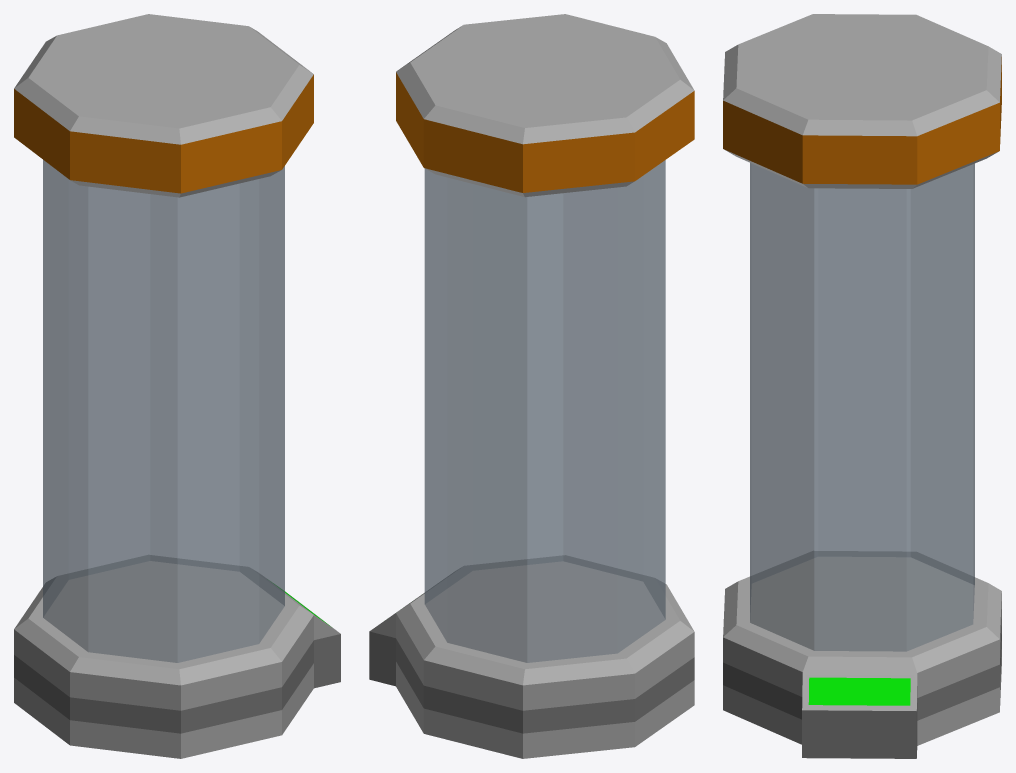
3 views of the same model, side by side, from view 1: azimuth 30°, elevation 25°; view 2: azimuth 150°, elevation 25°; view 3: azimuth 270°, elevation 25° (orthographic).
Visible parts, largest first — view 1: pCylinder2; view 2: pCylinder2; view 3: pCylinder2.
Part boxes in pixels (<box>): pCylinder2: <box>14,14,340,758</box>; pCylinder2: <box>369,14,694,758</box>; pCylinder2: <box>723,14,1001,758</box>.
Bounding box in the file's own units: 447 × 987 × 402.
